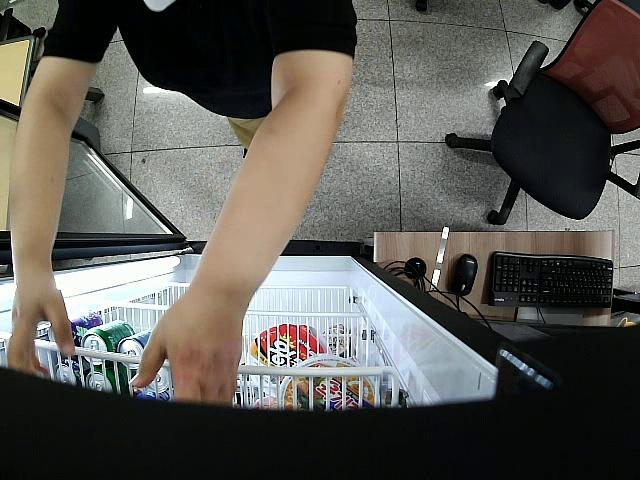00_hand: (129, 291, 246, 406), (9, 270, 80, 377)
